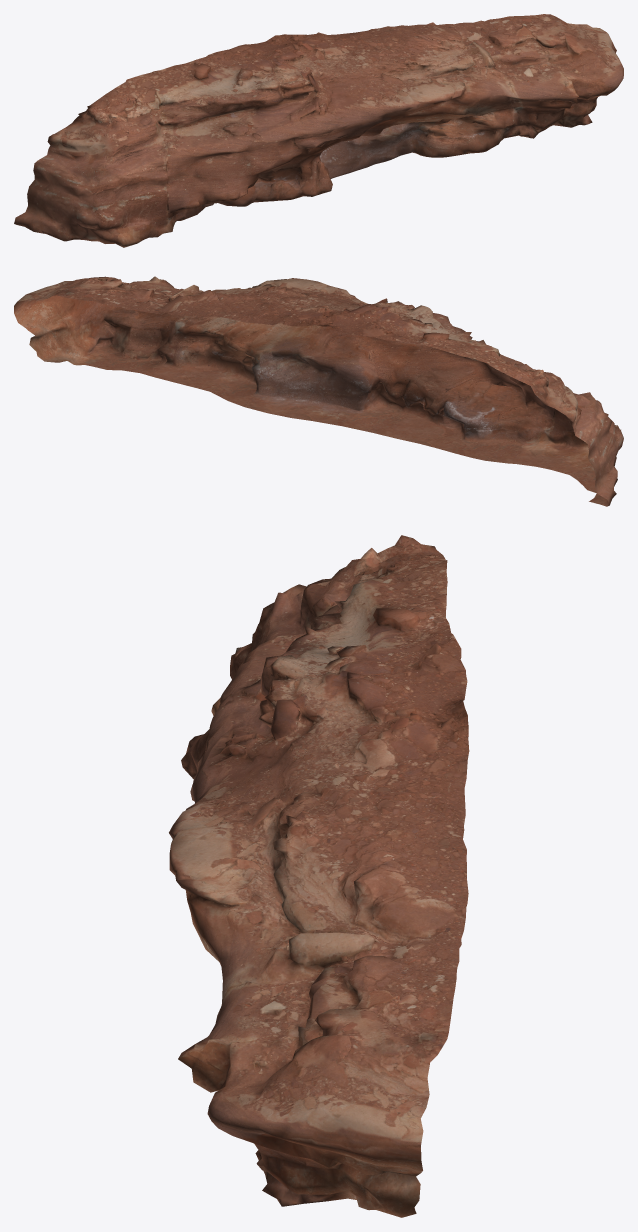
The model's file is desert_western_ledge_rock_medium_05_ventdee_mid.glb.
3 renders of one model, top to bottom at view 1: azimuth 30°, elevation 25°; view 2: azimuth 150°, elevation 25°; view 3: azimuth 270°, elevation 25°, orthographic. The views are drawn at different scales.
Parts seen in each view (by area): view 1: ventdee_LOD0_TIER2_000; view 2: ventdee_LOD0_TIER2_000; view 3: ventdee_LOD0_TIER2_000.
Boxes of the visible parts, box(x1,y1,x2,y2) form: ventdee_LOD0_TIER2_000: box(14, 14, 623, 247); ventdee_LOD0_TIER2_000: box(14, 276, 623, 506); ventdee_LOD0_TIER2_000: box(169, 535, 469, 1217).
Bounding box in the file's own units: 3.33 × 0.6694 × 0.7391.
1 material, 1 textured.
